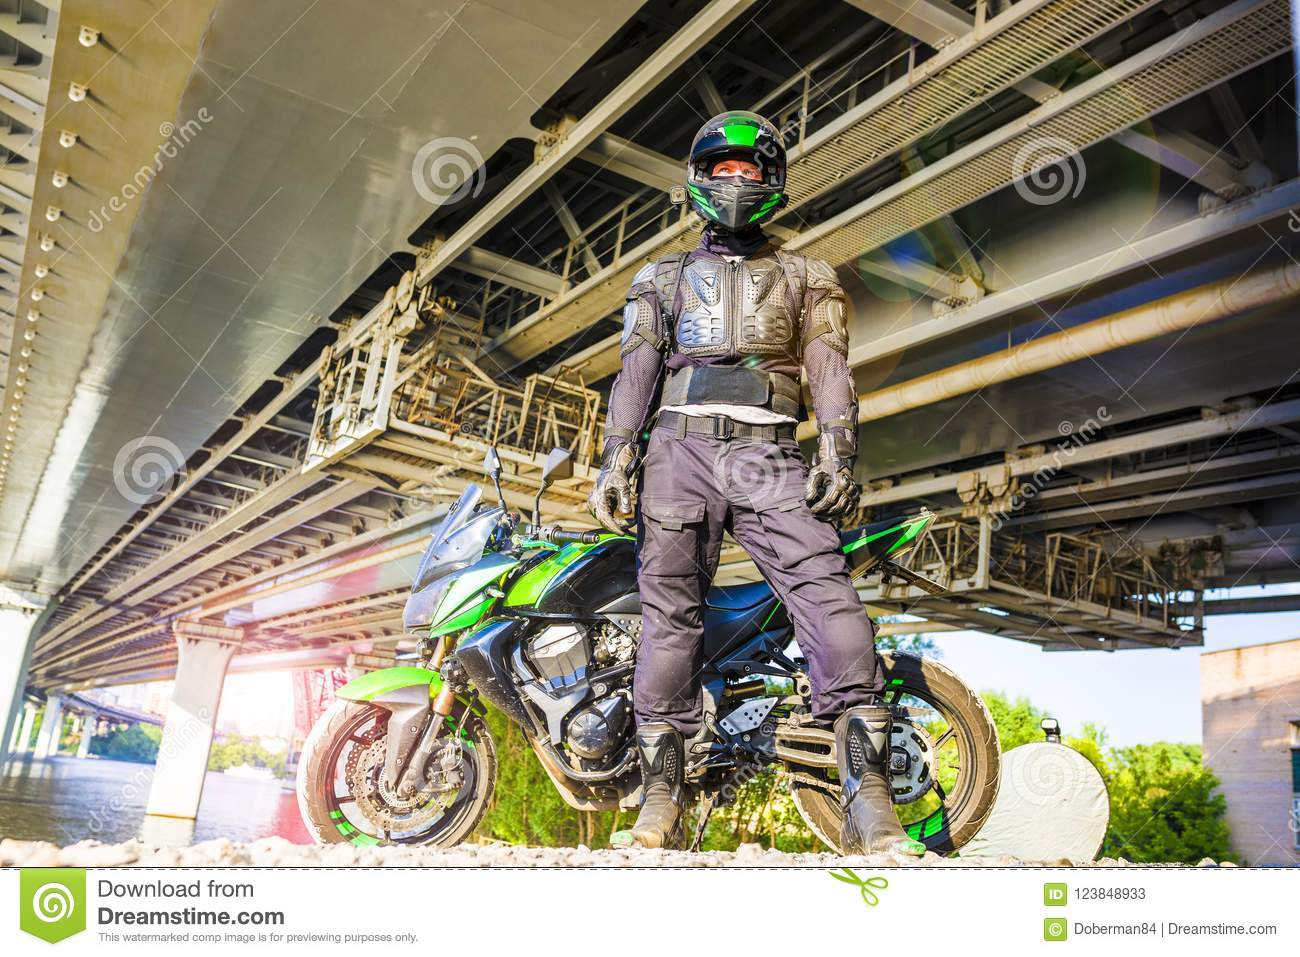helmet: (686, 99, 790, 235)
